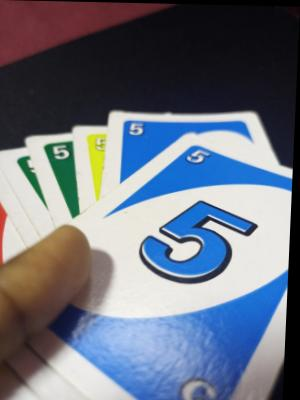blue: (99, 201, 287, 362), (117, 118, 250, 146)
green: (42, 141, 83, 193)
num_5: (184, 144, 215, 166), (49, 142, 75, 164), (125, 120, 152, 141)
